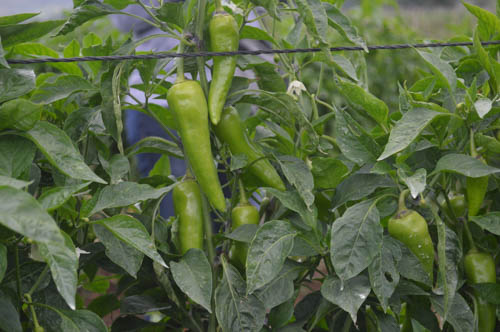ChiliPepper: (168, 84, 226, 210), (217, 110, 282, 188), (205, 17, 239, 122), (393, 212, 433, 283), (171, 183, 201, 266), (462, 254, 495, 326), (230, 206, 259, 264)
